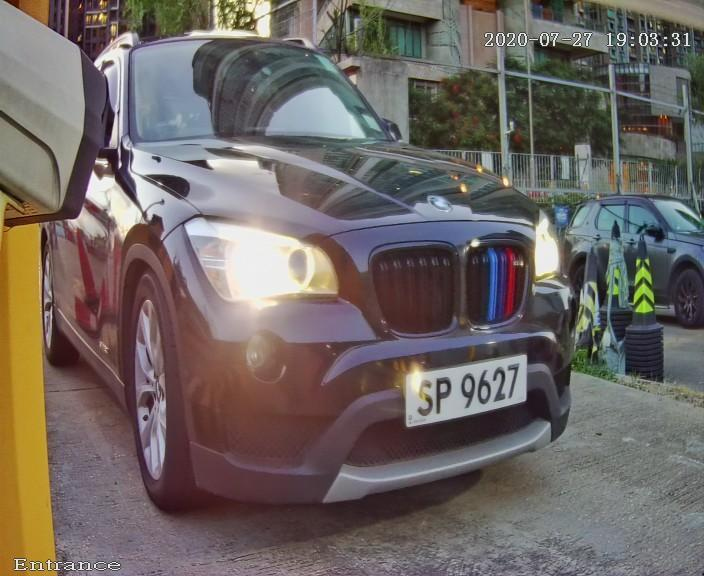privatecar: (111, 21, 610, 523)
